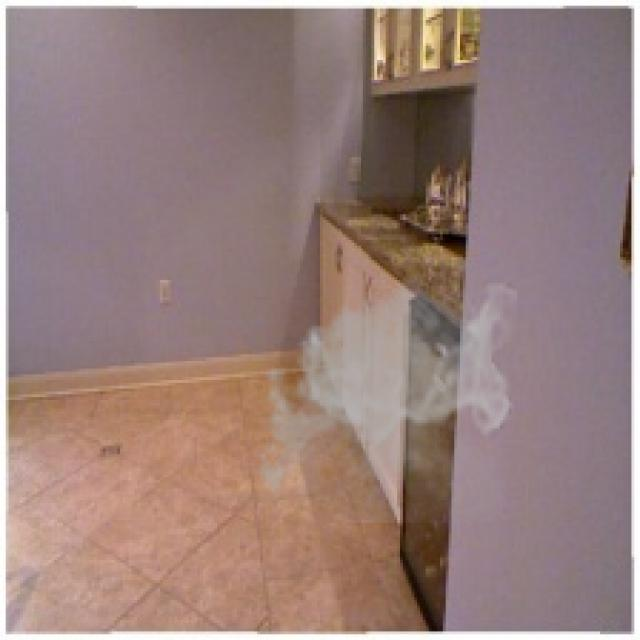smoke: (249, 268, 517, 523)
